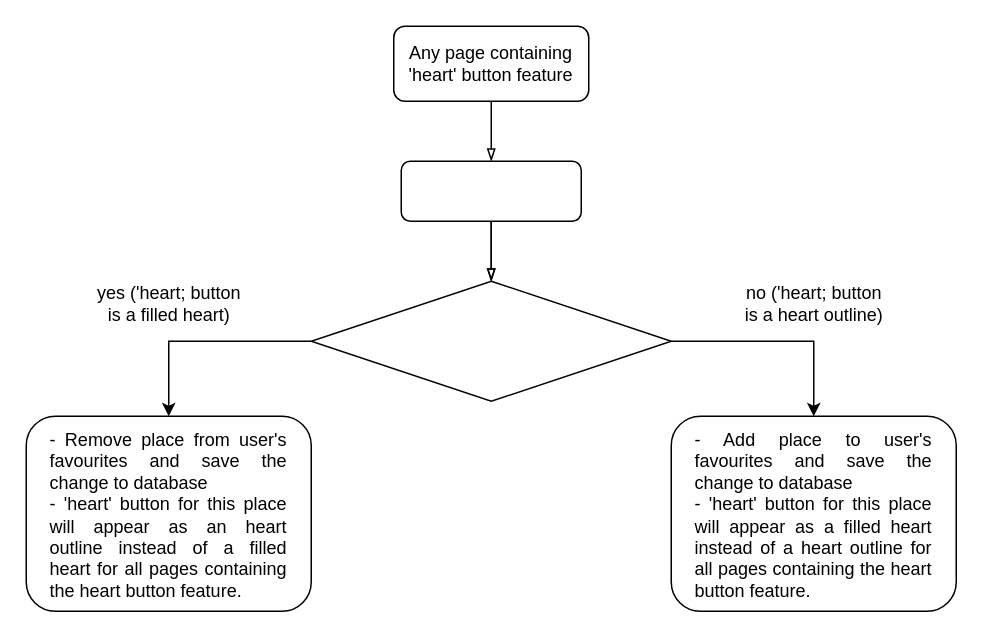
The diagram is 983 pixels wide and 638 high, and some of its shapes have lost their labels. Here are the shapes that lost their labels. From the top down, the box of each, then its label:
(400, 160, 581, 221): 'heart' button click
(310, 280, 671, 401): Is place already in user's favourites?
